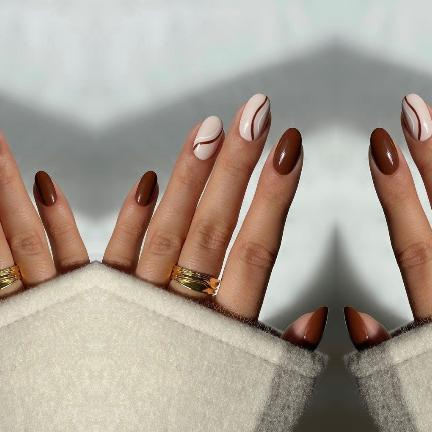Nail: (239, 93, 270, 142), (401, 93, 432, 142), (272, 127, 301, 175), (370, 127, 399, 175), (193, 115, 223, 160), (301, 307, 328, 351), (344, 307, 371, 351), (134, 171, 157, 207), (33, 171, 56, 207)
